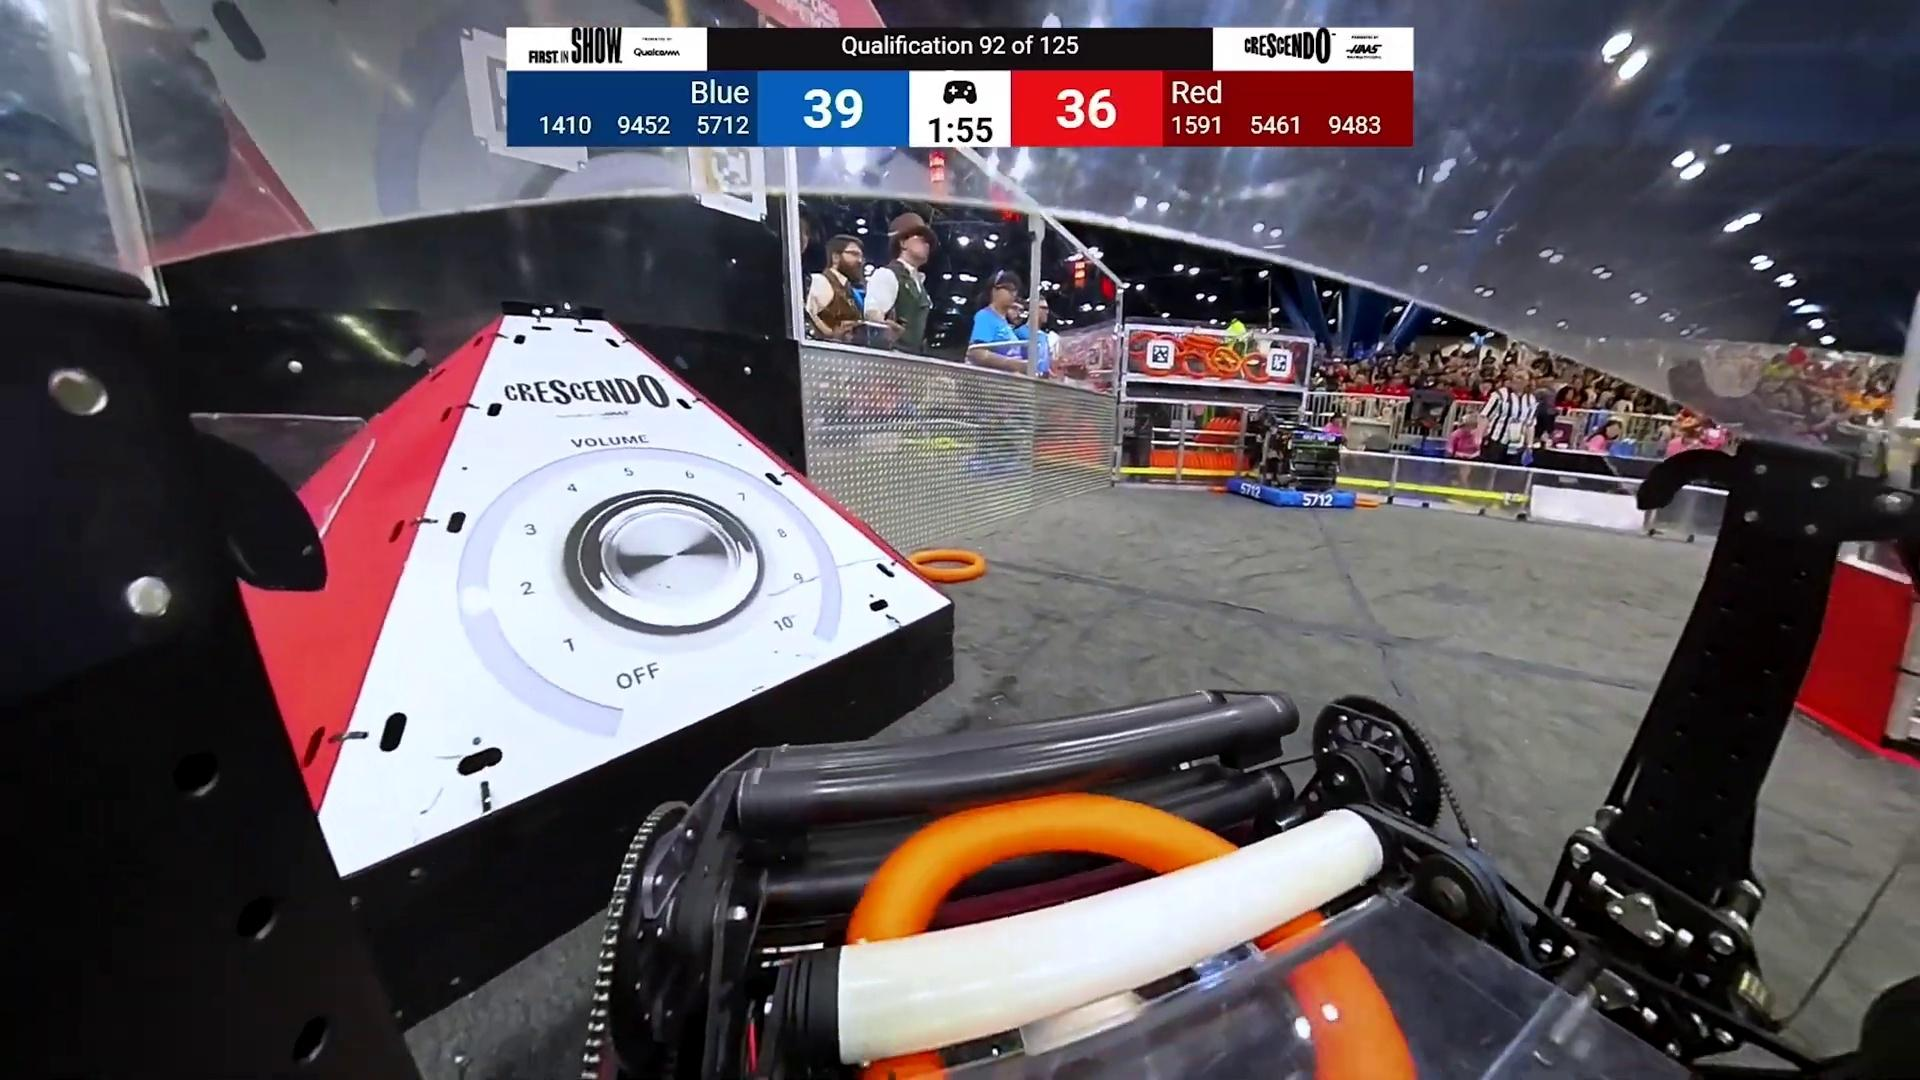robot: (1228, 401, 1357, 509)
